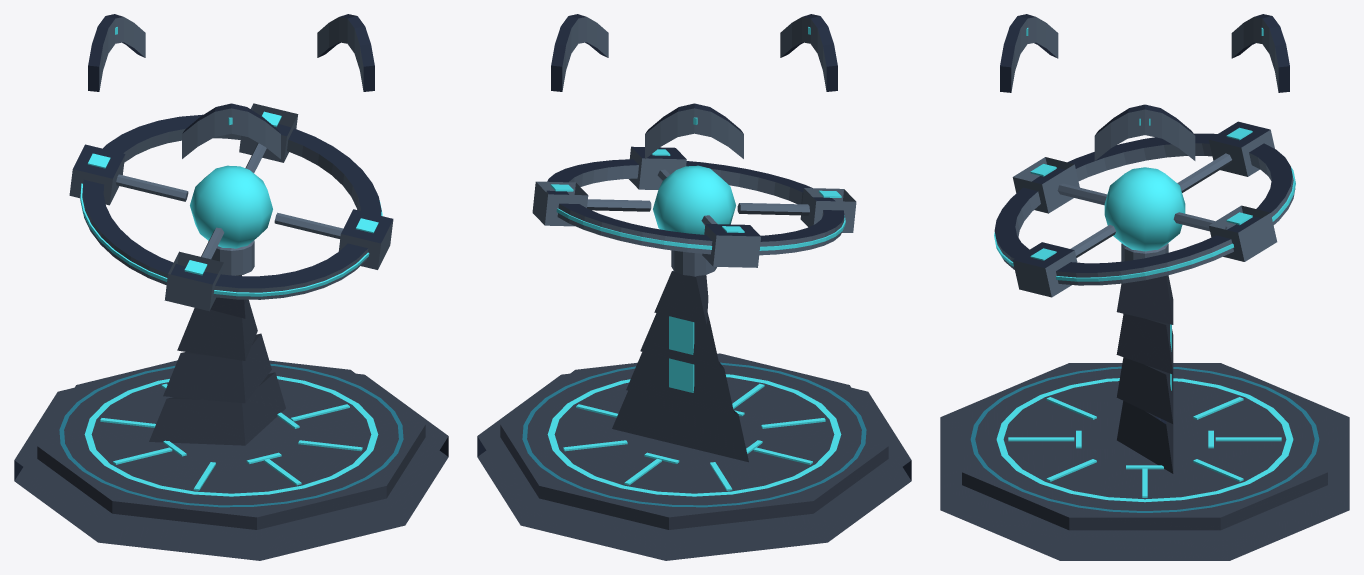
The model's file is mana_drone_dock.obj.
3 renders of one model, left to right at view 1: azimuth 30°, elevation 25°; view 2: azimuth 150°, elevation 25°; view 3: azimuth 270°, elevation 25°, orthographic.
Parts seen in each view (by area): view 1: body, shell_0, fx, core, shell_2, shell_1, shell_3; view 2: body, shell_0, fx, core, shell_3, shell_1, shell_2; view 3: body, shell_0, fx, core, shell_1, shell_2, shell_3.
Boxes of the visible parts, x1,y1,x2,y2 form: body: [14, 240, 448, 560]; shell_0: [69, 103, 393, 311]; fx: [59, 363, 403, 507]; core: [190, 165, 272, 248]; shell_2: [182, 103, 280, 158]; shell_1: [317, 14, 374, 91]; shell_3: [88, 14, 145, 91]; body: [477, 250, 911, 560]; shell_0: [532, 146, 856, 267]; fx: [522, 316, 866, 507]; core: [653, 165, 735, 234]; shell_3: [645, 103, 743, 158]; shell_1: [551, 14, 608, 91]; shell_2: [780, 14, 837, 91]; body: [940, 243, 1349, 560]; shell_0: [994, 121, 1295, 297]; fx: [970, 324, 1319, 512]; core: [1104, 167, 1185, 251]; shell_1: [1094, 104, 1195, 160]; shell_2: [1000, 14, 1058, 92]; shell_3: [1231, 14, 1289, 92].
Bounding box in the file's own units: 0.8684 × 1 × 0.8684.
